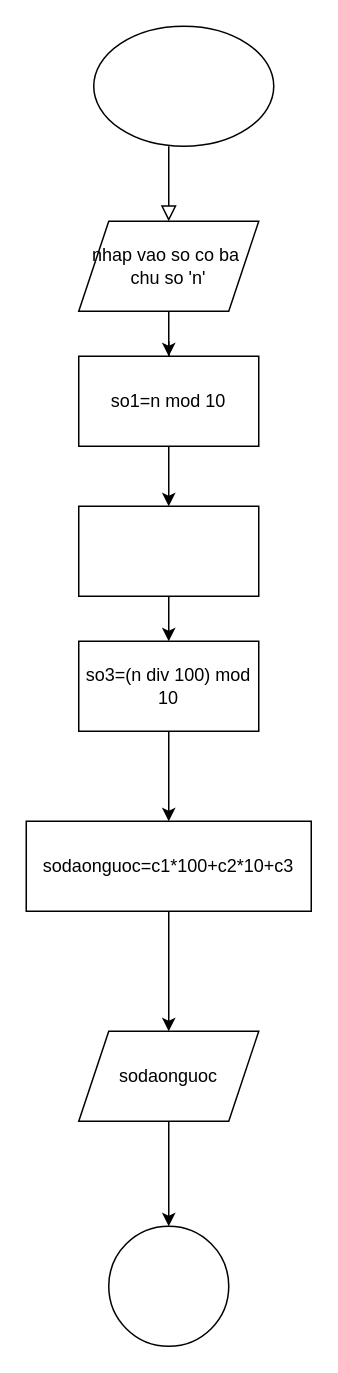
This 338x1373 diagram has some shape labels left out. The centre of each missing label's shape, as x and y in pixels:
BÁT ĐẦU: the point at 183,85
so2=(n div 10) mod 10: the point at 168,550
